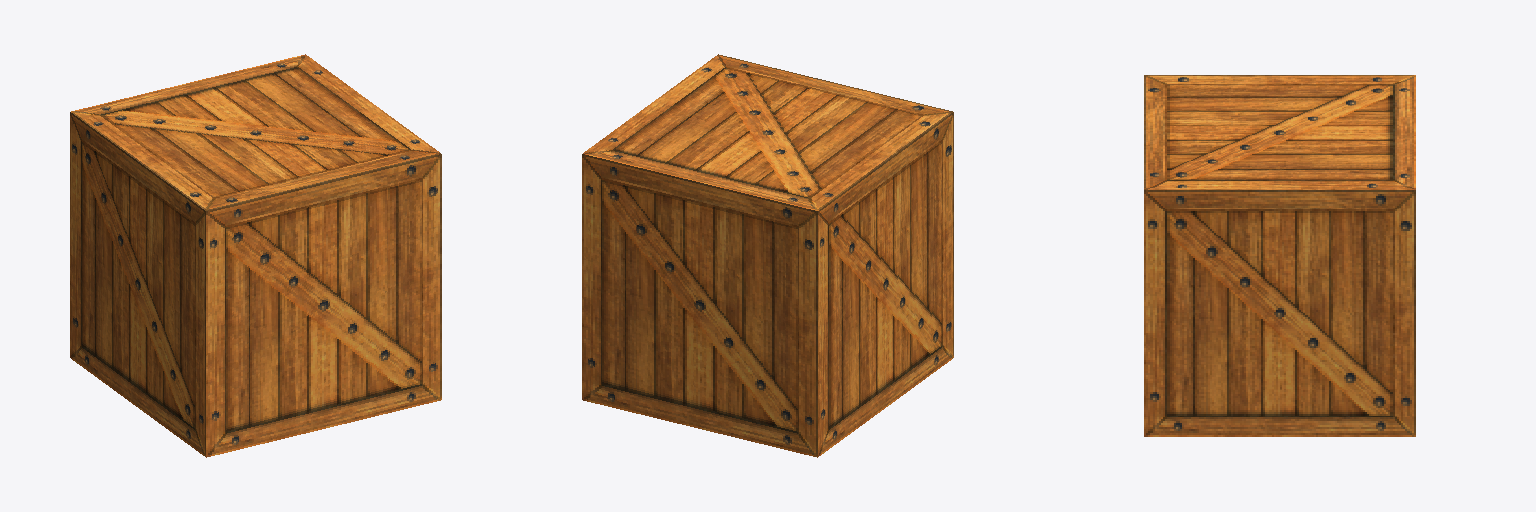
3 renders of one model, left to right at view 1: azimuth 30°, elevation 25°; view 2: azimuth 150°, elevation 25°; view 3: azimuth 270°, elevation 25°, orthographic.
Parts seen in each view (by area): view 1: Cube; view 2: Cube; view 3: Cube.
Part boxes in pixels (left/top/right/bottom): Cube: left=70, top=54, right=441, bottom=457; Cube: left=582, top=54, right=953, bottom=457; Cube: left=1144, top=75, right=1415, bottom=436.
Bounding box in the file's own units: 2 × 2 × 2.
1 materials, 1 textured.